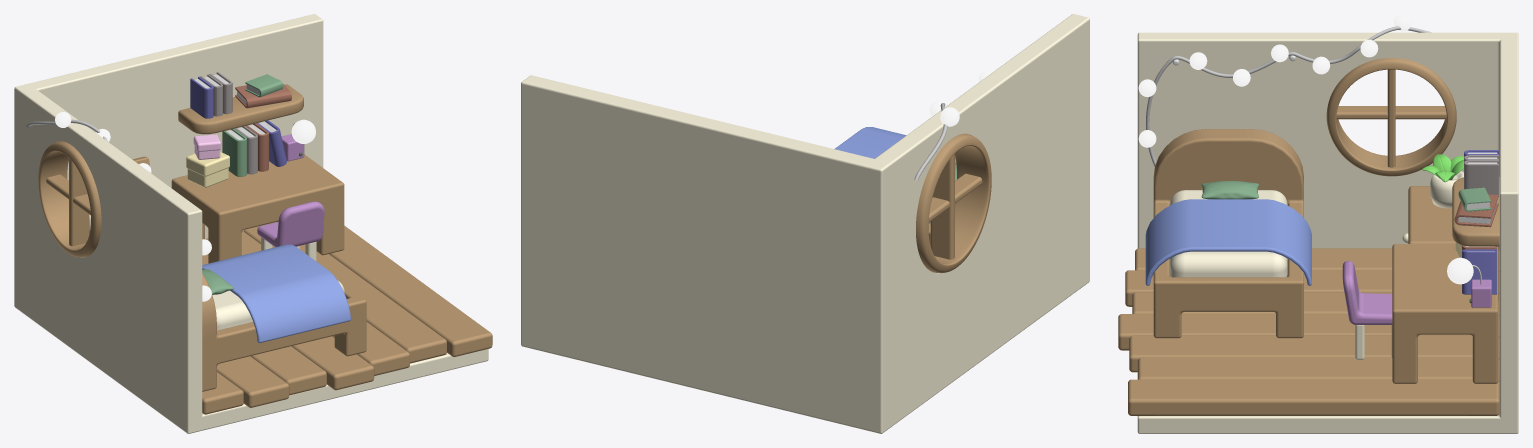
The model's file is room.gltf.
3 renders of one model, left to right at view 1: azimuth 30°, elevation 25°; view 2: azimuth 150°, elevation 25°; view 3: azimuth 270°, elevation 25°, orthographic. The views are drawn at different scales.
Parts seen in each view (by area): view 1: wall, floor, 큐브.004, 큐브.002, 큐브, window, 큐브.010, 큐브.009, 큐브.006, 큐브.015, 큐브.019, 큐브.001 (+6 smaller); view 2: wall, window, 큐브.019, 큐브.002, 큐브.020; view 3: wall, floor, 큐브, 큐브.004, 큐브.002, window, 큐브.001, 큐브.005, 큐브.006, 큐브.009, 큐브.020, 큐브.015 (+10 smaller).
Boxes of the visible parts, x1,y1,x2,y2 form: wall: [14, 14, 488, 433]; floor: [202, 222, 492, 414]; 큐브.004: [171, 154, 344, 263]; 큐브.002: [202, 244, 350, 343]; 큐브: [202, 273, 366, 391]; window: [38, 141, 101, 257]; 큐브.010: [222, 120, 286, 176]; 큐브.009: [178, 84, 303, 134]; 큐브.006: [257, 201, 324, 247]; 큐브.015: [190, 72, 232, 118]; 큐브.019: [69, 158, 89, 246]; 큐브.001: [212, 280, 344, 330]; wall: [521, 14, 1089, 433]; window: [916, 133, 991, 273]; 큐브.019: [930, 154, 954, 259]; 큐브.002: [834, 127, 955, 162]; 큐브.020: [928, 173, 982, 222]; wall: [1137, 32, 1518, 433]; floor: [1118, 248, 1499, 415]; 큐브: [1153, 129, 1303, 338]; 큐브.004: [1392, 244, 1498, 383]; 큐브.002: [1145, 199, 1311, 285]; window: [1326, 58, 1456, 176]; 큐브.001: [1170, 190, 1287, 277]; 큐브.005: [1408, 186, 1498, 300]; 큐브.006: [1342, 260, 1392, 324]; 큐브.009: [1452, 177, 1499, 246]; 큐브.020: [1336, 106, 1446, 119]; 큐브.015: [1464, 150, 1498, 196].
Bounding box in the file's own units: 4.14 × 2.98 × 4.21.
